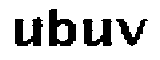b: (46, 8, 77, 49)
u: (11, 16, 45, 50), (81, 17, 113, 51)
v: (114, 15, 148, 49)
